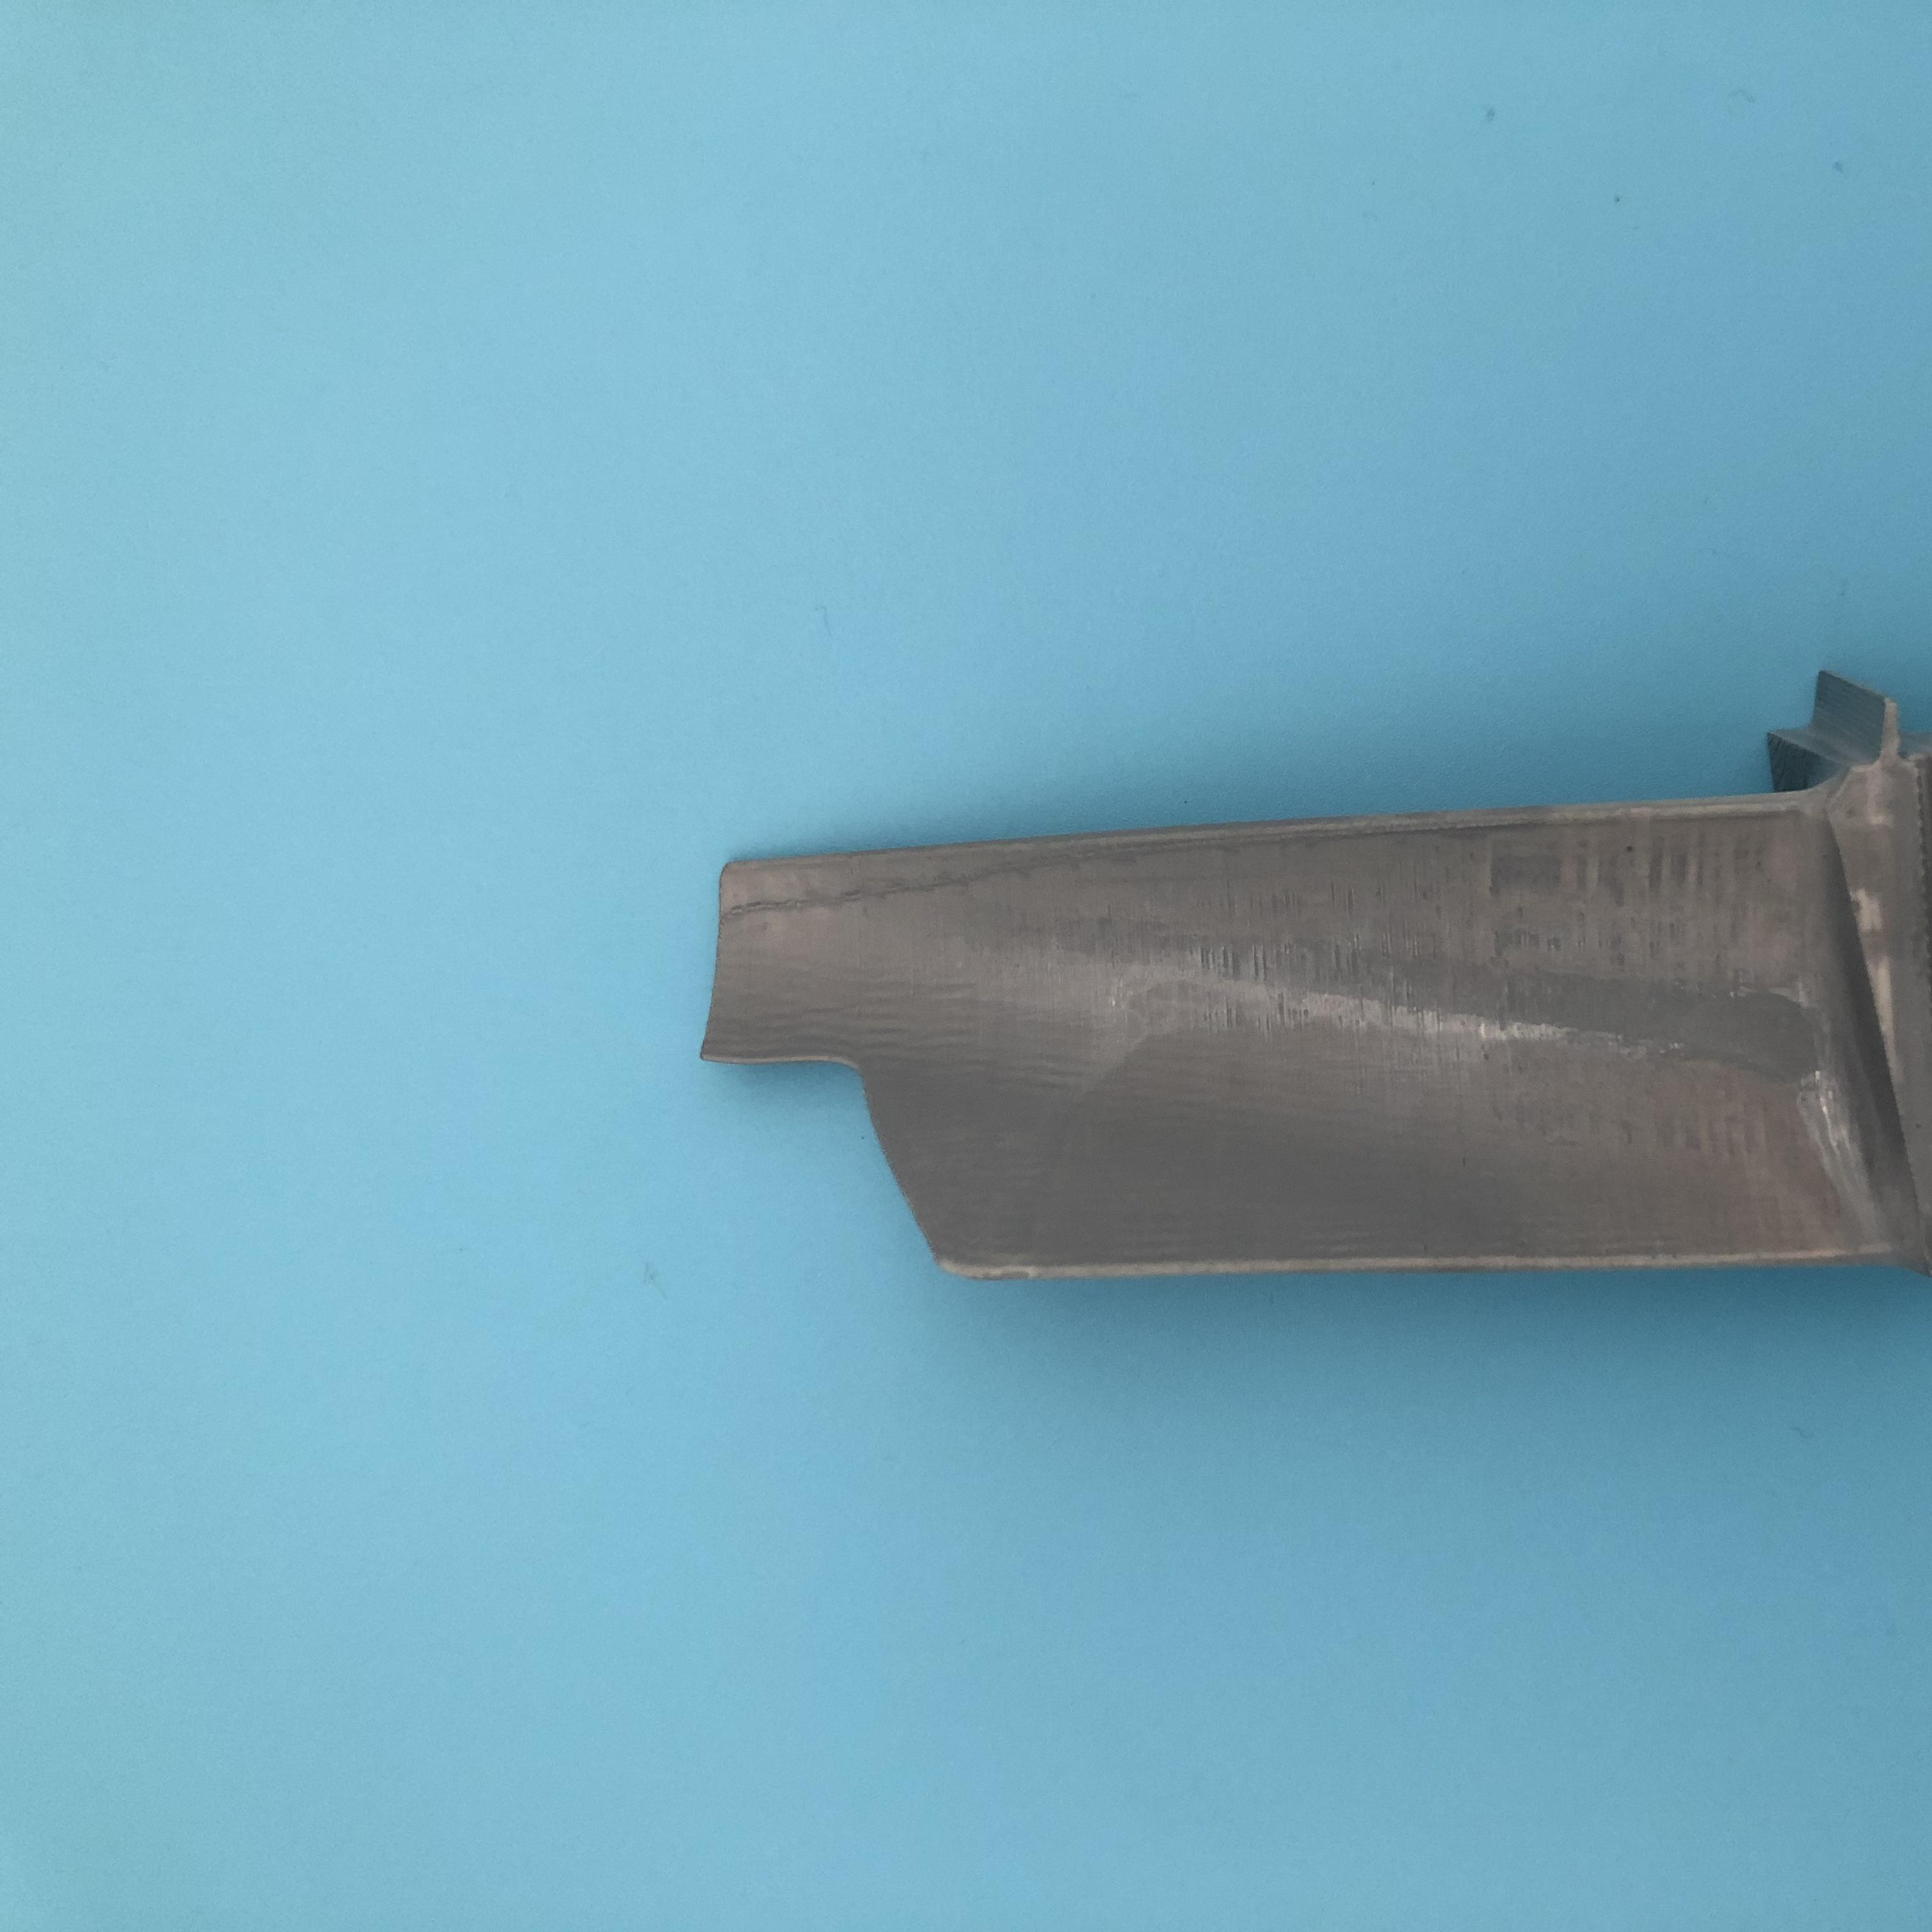fracture: (702, 1017, 989, 1274)
